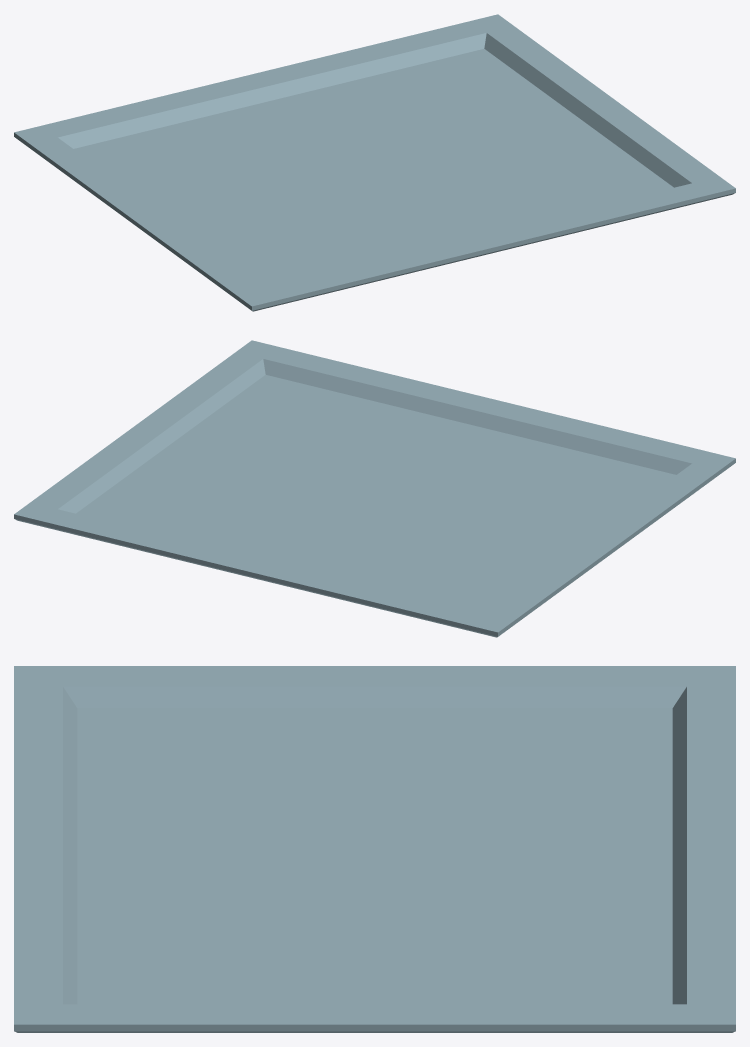
The model's file is KAC-F600_OvenTray_V3.glb.
3 renders of one model, top to bottom at view 1: azimuth 30°, elevation 25°; view 2: azimuth 150°, elevation 25°; view 3: azimuth 270°, elevation 25°, orthographic. The views are drawn at different scales.
Parts seen in each view (by area): view 1: KAC-F600_OvenTray_V3; view 2: KAC-F600_OvenTray_V3; view 3: KAC-F600_OvenTray_V3.
Part boxes in pixels (<box>): KAC-F600_OvenTray_V3: <box>14,14,735,311</box>; KAC-F600_OvenTray_V3: <box>14,340,735,637</box>; KAC-F600_OvenTray_V3: <box>14,666,735,1032</box>.
Size of the model in its own units: 0.47 by 0.012 by 0.4.
1 material, 1 textured.
